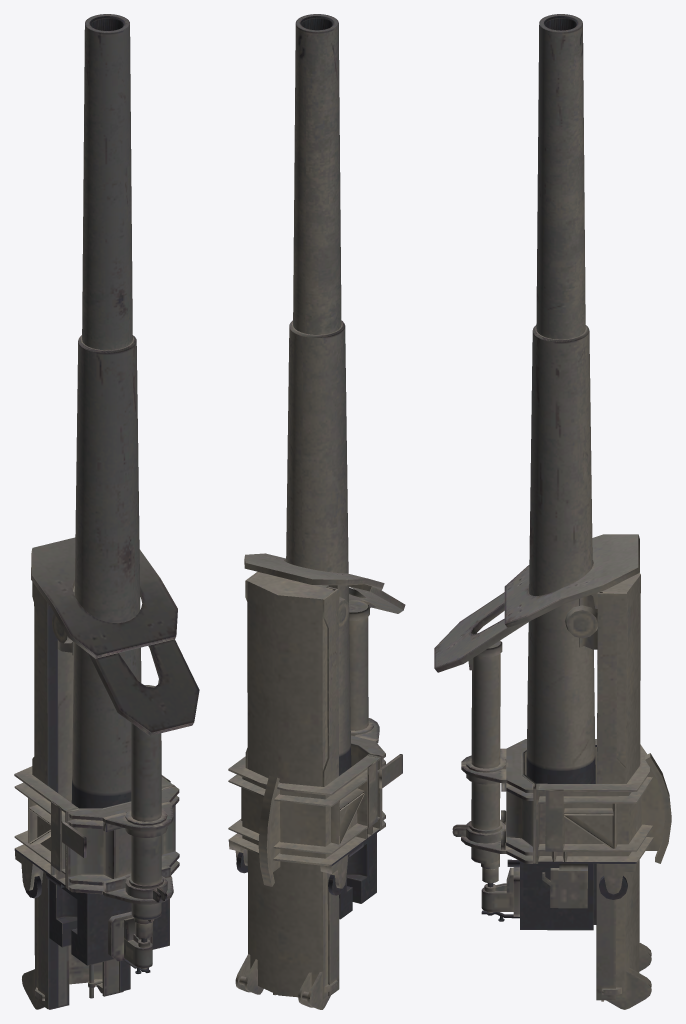
Rendered from Gun_02.glb.
3 renders of one model, left to right at view 1: azimuth 30°, elevation 25°; view 2: azimuth 150°, elevation 25°; view 3: azimuth 270°, elevation 25°, orthographic. The views are drawn at different scales.
Visible parts, largest first — view 1: set_0_group_0; view 2: set_0_group_0; view 3: set_0_group_0.
Part boxes in pixels (<box>): set_0_group_0: <box>14,14,199,1009</box>; set_0_group_0: <box>228,14,405,1009</box>; set_0_group_0: <box>434,14,671,1009</box>.
Bounding box in the file's own units: 0.8381 × 7.16 × 1.59.
Materials: 1 (1 with a texture image).
